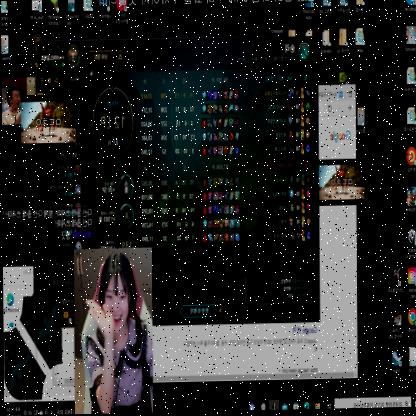streamer: (83, 251, 151, 414)
